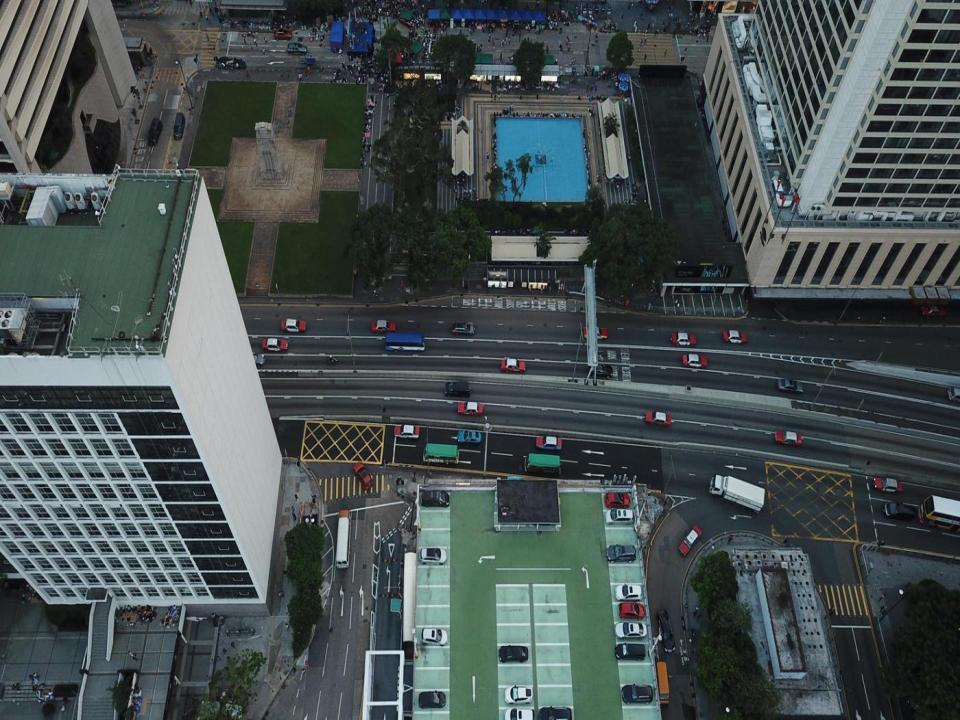bus: (917, 493, 960, 532), (334, 507, 352, 568), (525, 453, 562, 475), (424, 442, 459, 464), (384, 332, 424, 351)
car: (657, 608, 675, 652), (678, 524, 702, 556), (614, 620, 646, 640), (621, 684, 653, 704), (615, 642, 646, 662), (353, 460, 373, 490), (882, 502, 914, 520), (504, 684, 533, 703), (421, 489, 450, 508), (604, 508, 634, 526), (606, 544, 636, 562), (617, 602, 645, 621), (499, 645, 528, 663), (420, 628, 447, 647), (418, 691, 446, 709), (614, 584, 642, 601), (646, 410, 672, 428), (874, 475, 901, 492), (420, 548, 446, 565), (456, 401, 482, 418), (538, 706, 571, 719), (394, 423, 420, 439), (444, 381, 470, 397), (777, 378, 803, 394), (588, 362, 613, 378), (669, 332, 697, 346), (774, 430, 802, 444), (262, 338, 288, 353), (682, 354, 708, 369), (604, 492, 630, 507), (723, 329, 747, 345), (501, 358, 526, 373), (280, 318, 306, 332), (535, 435, 561, 449), (503, 708, 535, 719), (451, 322, 476, 336), (583, 325, 607, 339), (241, 352, 264, 366), (458, 430, 482, 443), (920, 306, 946, 318), (371, 320, 396, 332), (286, 43, 306, 56), (274, 28, 292, 40)
truck: (709, 474, 765, 514)
van: (656, 660, 669, 704), (146, 117, 162, 147), (173, 111, 184, 140), (949, 387, 960, 402)
